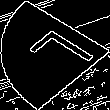L_SE: (14, 27, 96, 83)
